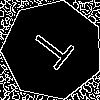T: (27, 25, 83, 77)
